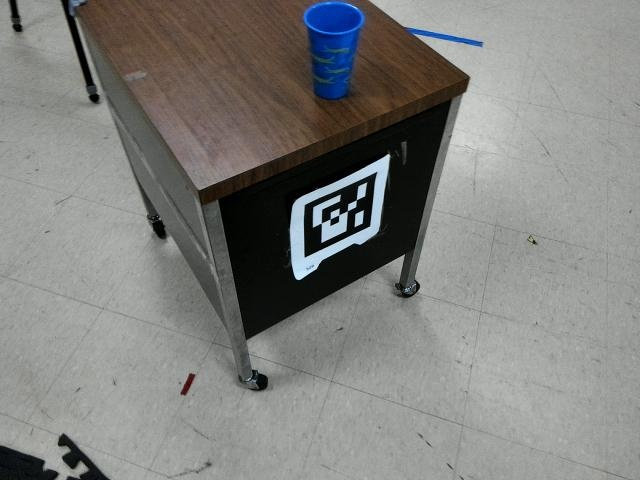water_cup: (293, 1, 375, 106)
